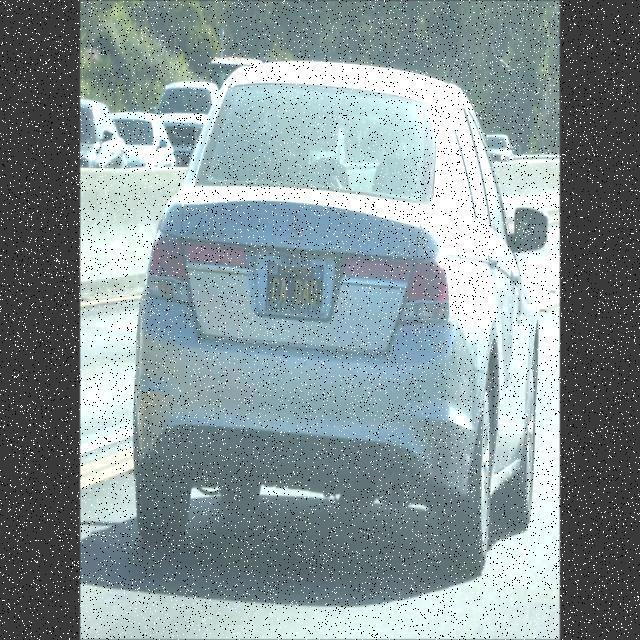LicensePlate: (255, 239, 329, 324)
